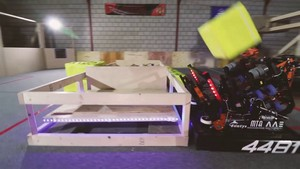cube: (198, 5, 262, 61)
